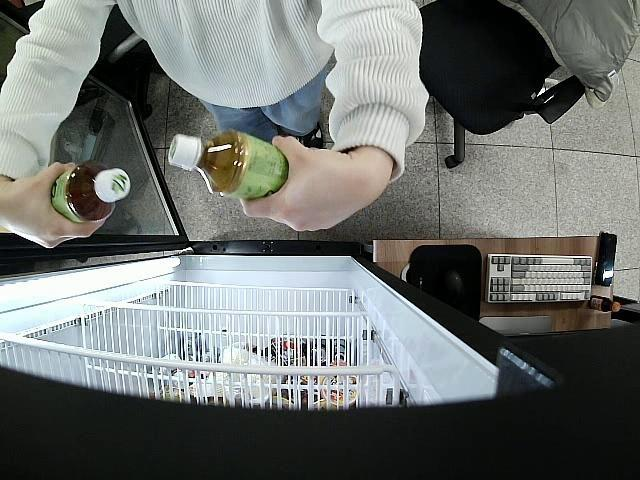19_17cha: (167, 132, 288, 201), (50, 162, 132, 226)
